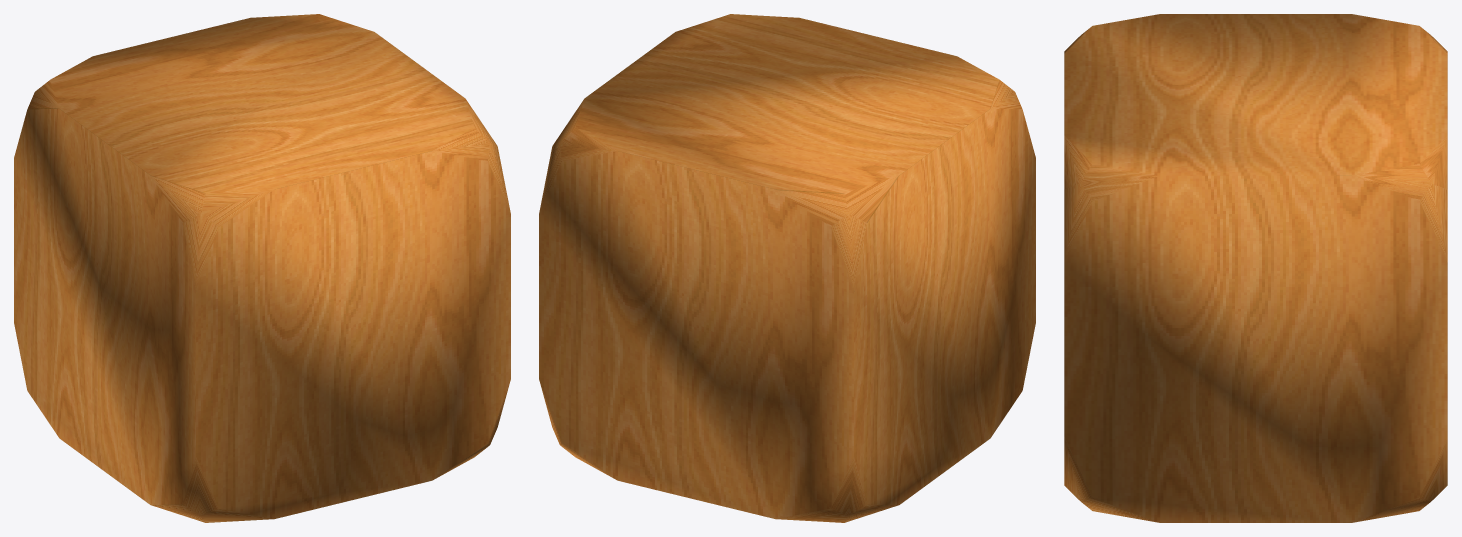
Rendered from BlockC.fbx.
3 renders of one model, left to right at view 1: azimuth 30°, elevation 25°; view 2: azimuth 150°, elevation 25°; view 3: azimuth 270°, elevation 25°, orthographic. The views are drawn at different scales.
Parts seen in each view (by area): view 1: BlockC; view 2: BlockC; view 3: BlockC.
Boxes of the visible parts, box(x1,y1,x2,y2) form: BlockC: box(14, 14, 510, 522); BlockC: box(539, 14, 1035, 522); BlockC: box(1064, 14, 1447, 522).
Bounding box in the file's own units: 1 × 1 × 1.
1 material, 1 textured.
